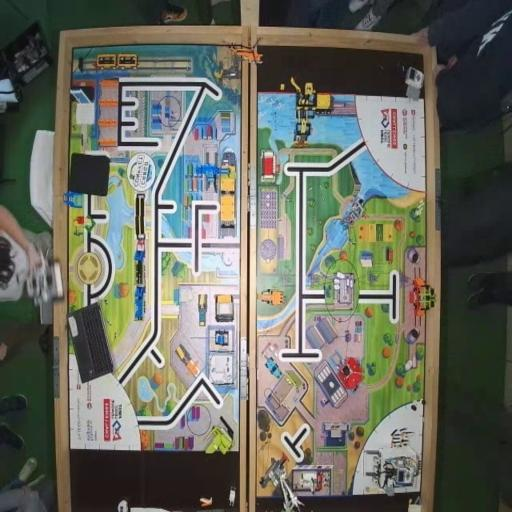lego_robot: (365, 449, 421, 497), (26, 247, 64, 308)
